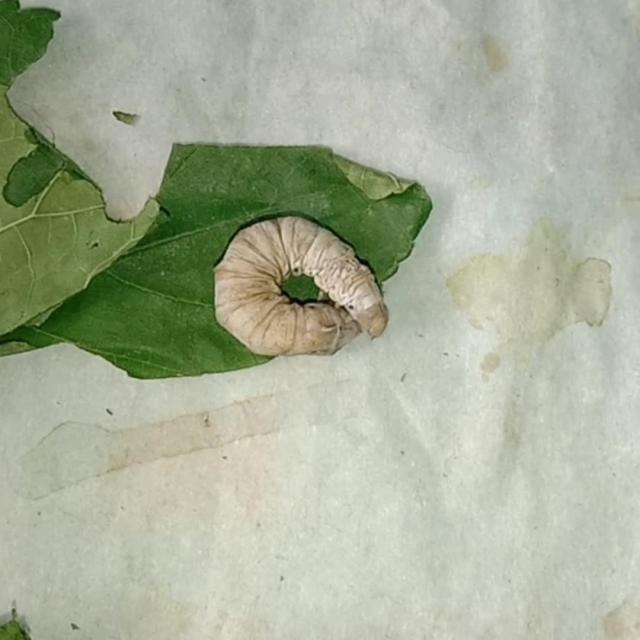Grasserie: (200, 191, 431, 391)
